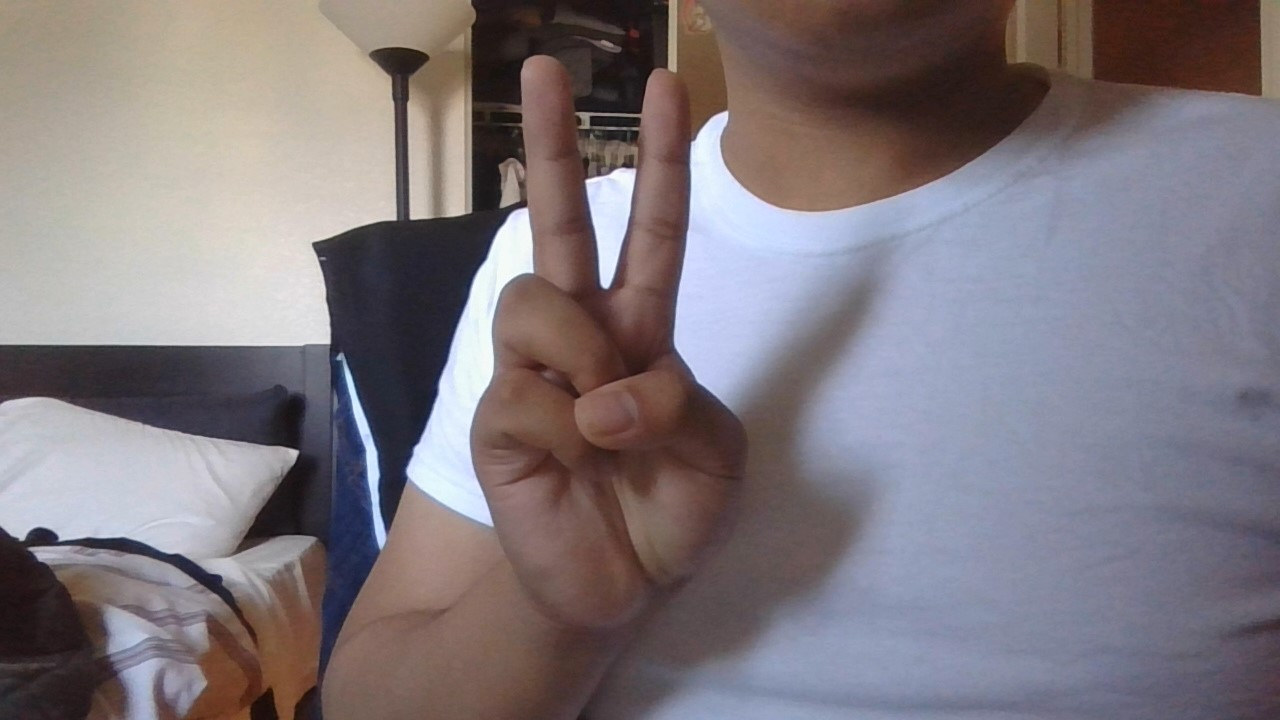v: (435, 36, 792, 661)
